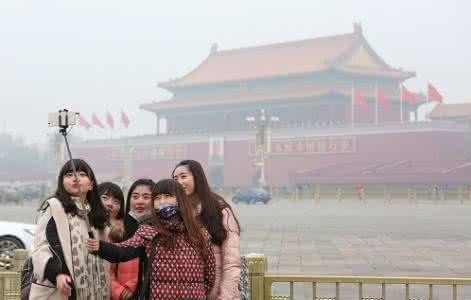car: (1, 219, 55, 273), (231, 186, 272, 206)
person: (101, 178, 216, 300), (29, 159, 113, 300), (164, 160, 241, 300), (110, 178, 173, 300), (78, 182, 135, 300)
